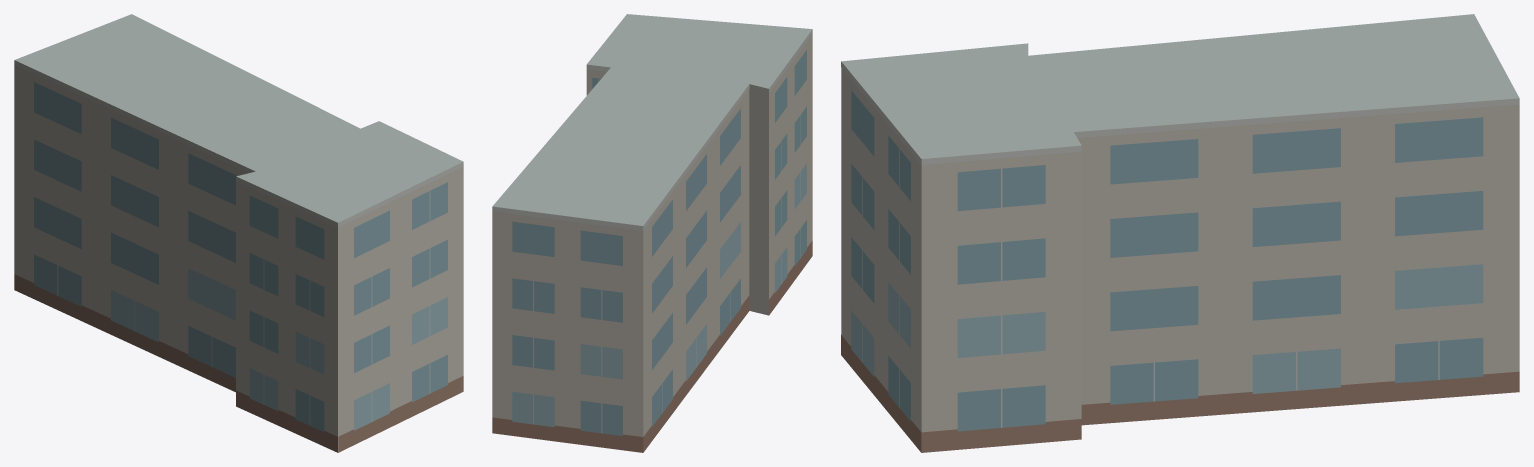
Rendered from survey-upis-32498301.glb.
3 views of the same model, side by side, from view 1: azimuth 30°, elevation 25°; view 2: azimuth 150°, elevation 25°; view 3: azimuth 270°, elevation 25° (orthographic). The views are drawn at different scales.
Parts seen in each view (by area): view 1: survey-upis-32498301.tmp; view 2: survey-upis-32498301.tmp; view 3: survey-upis-32498301.tmp.
Boxes of the visible parts, x1,y1,x2,y2 form: survey-upis-32498301.tmp: (14,14,463,452); survey-upis-32498301.tmp: (492,14,812,452); survey-upis-32498301.tmp: (841,14,1519,452).
Bounding box in the file's own units: 12.61 × 11.9 × 24.92.
